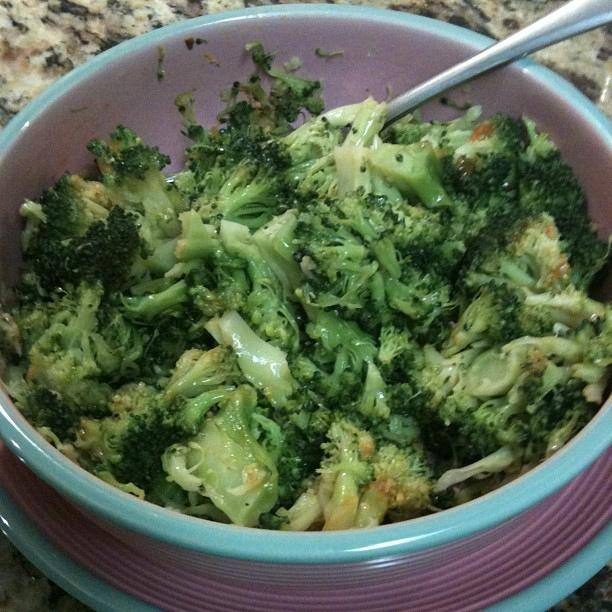broccoli: (100, 344, 243, 494), (391, 340, 538, 464), (162, 383, 278, 526), (369, 139, 488, 270), (218, 208, 302, 352), (204, 309, 310, 416), (15, 344, 118, 445), (196, 150, 296, 235), (518, 148, 592, 258), (446, 110, 532, 202), (250, 406, 324, 510), (353, 438, 436, 528), (314, 418, 376, 530), (440, 279, 526, 358), (132, 316, 218, 394), (67, 206, 141, 294), (37, 169, 125, 240), (378, 250, 454, 322), (311, 310, 378, 388), (461, 225, 536, 290), (406, 280, 470, 354), (0, 273, 53, 362), (330, 360, 391, 437), (104, 279, 195, 328), (201, 117, 254, 194), (253, 478, 326, 530), (96, 301, 143, 379), (324, 145, 372, 219), (303, 352, 363, 411), (122, 232, 182, 290), (161, 386, 230, 436), (187, 263, 248, 317), (86, 124, 142, 178), (174, 208, 226, 263), (517, 116, 561, 168), (518, 410, 550, 478), (263, 64, 321, 98), (105, 188, 146, 216), (302, 342, 337, 374), (387, 122, 432, 145), (309, 130, 334, 157), (178, 98, 198, 130), (245, 42, 266, 63), (248, 104, 260, 125)
